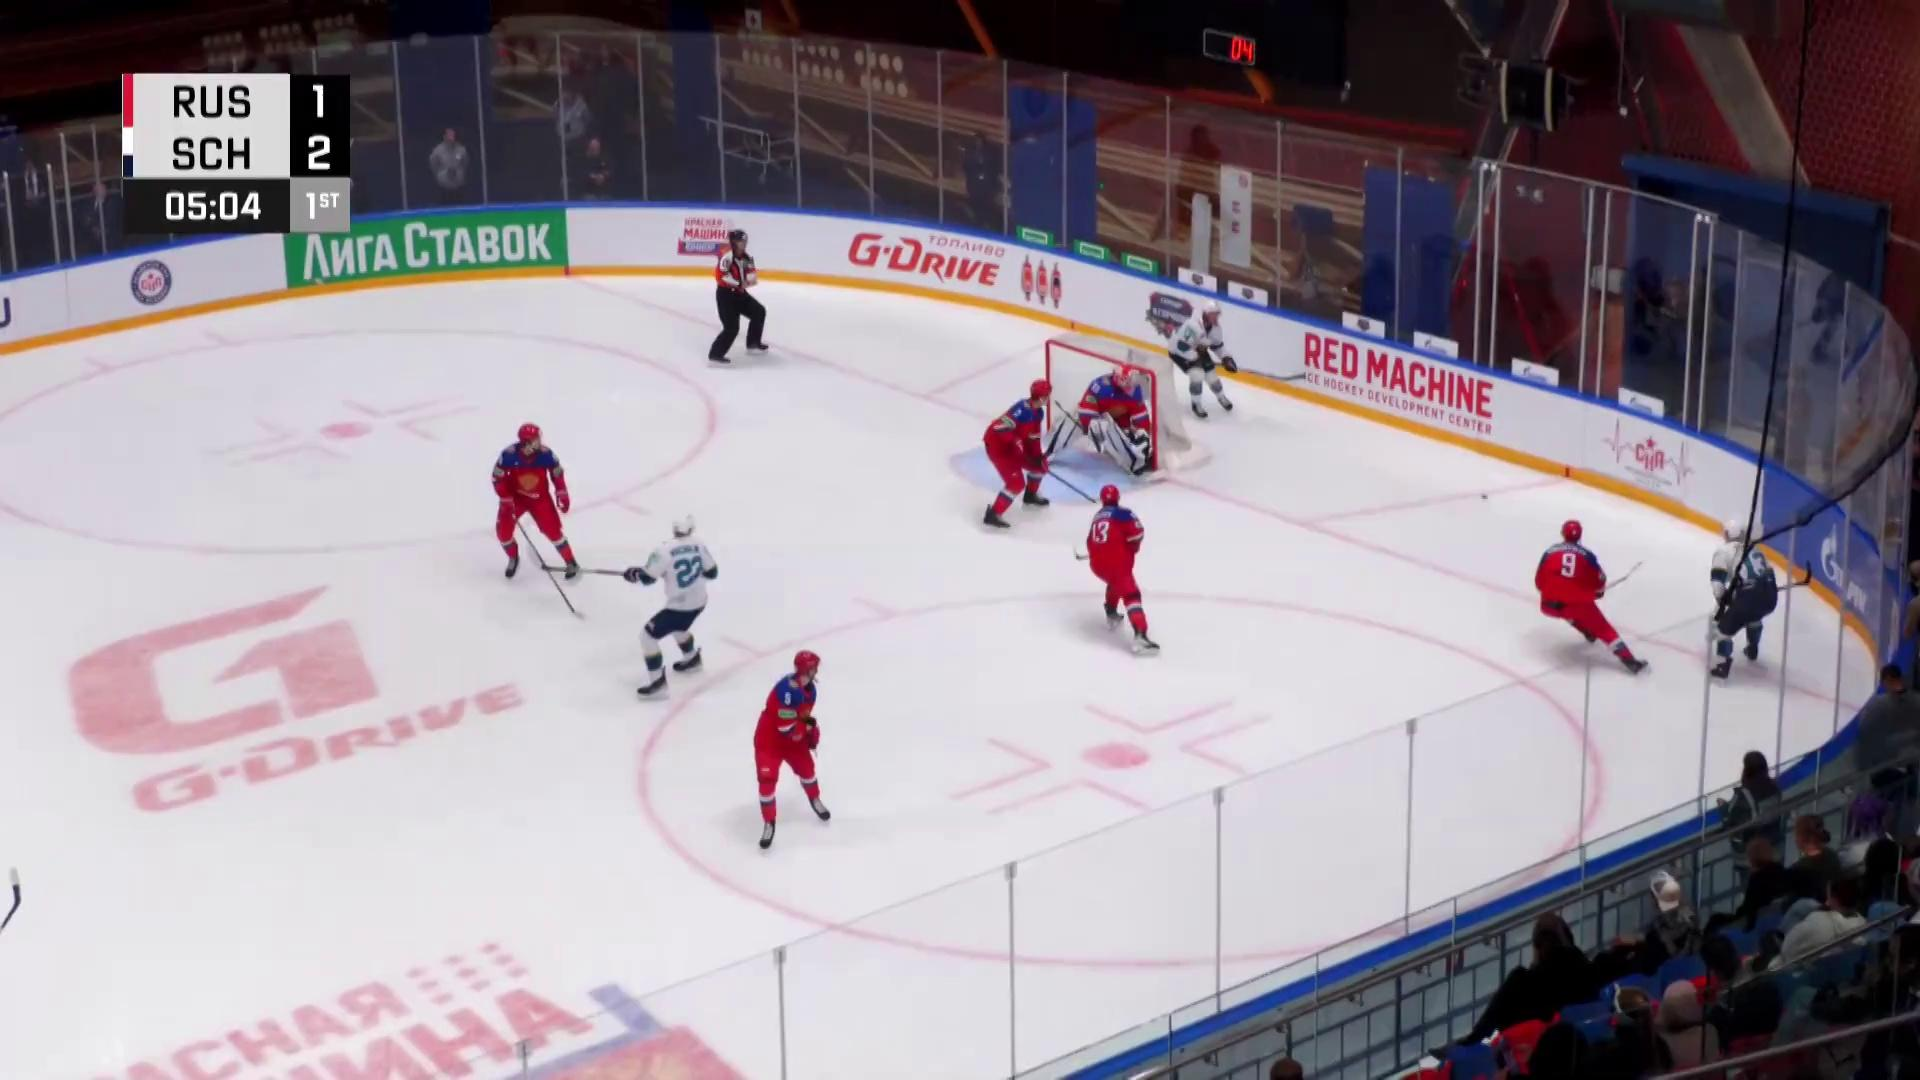ball: (1480, 493, 1489, 500)
